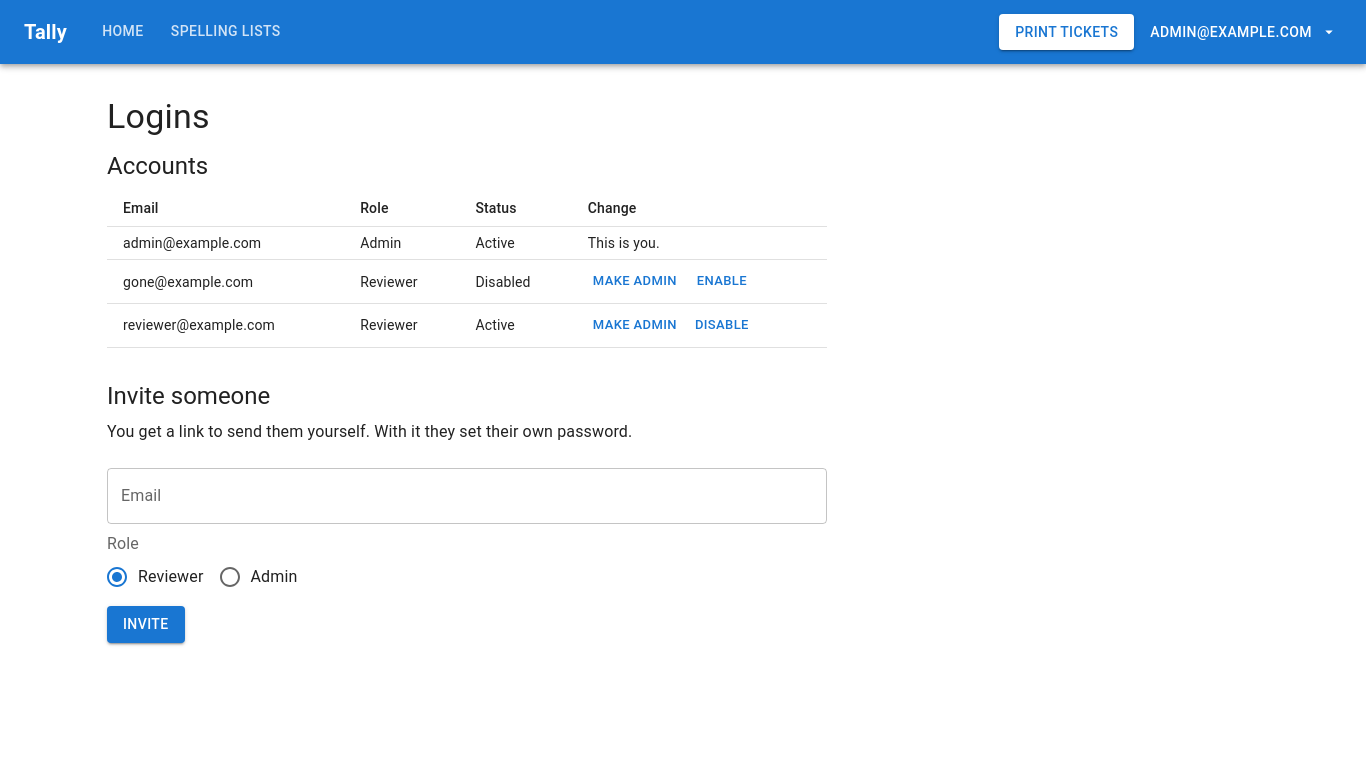
Test: the users list › asks before a role change, and says when it takes effect
Later steps or results of the test are not shown.
Click the button "Make admin" in the row of "reviewer@example.com": (635, 325) left=588, top=310, right=682, bottom=341
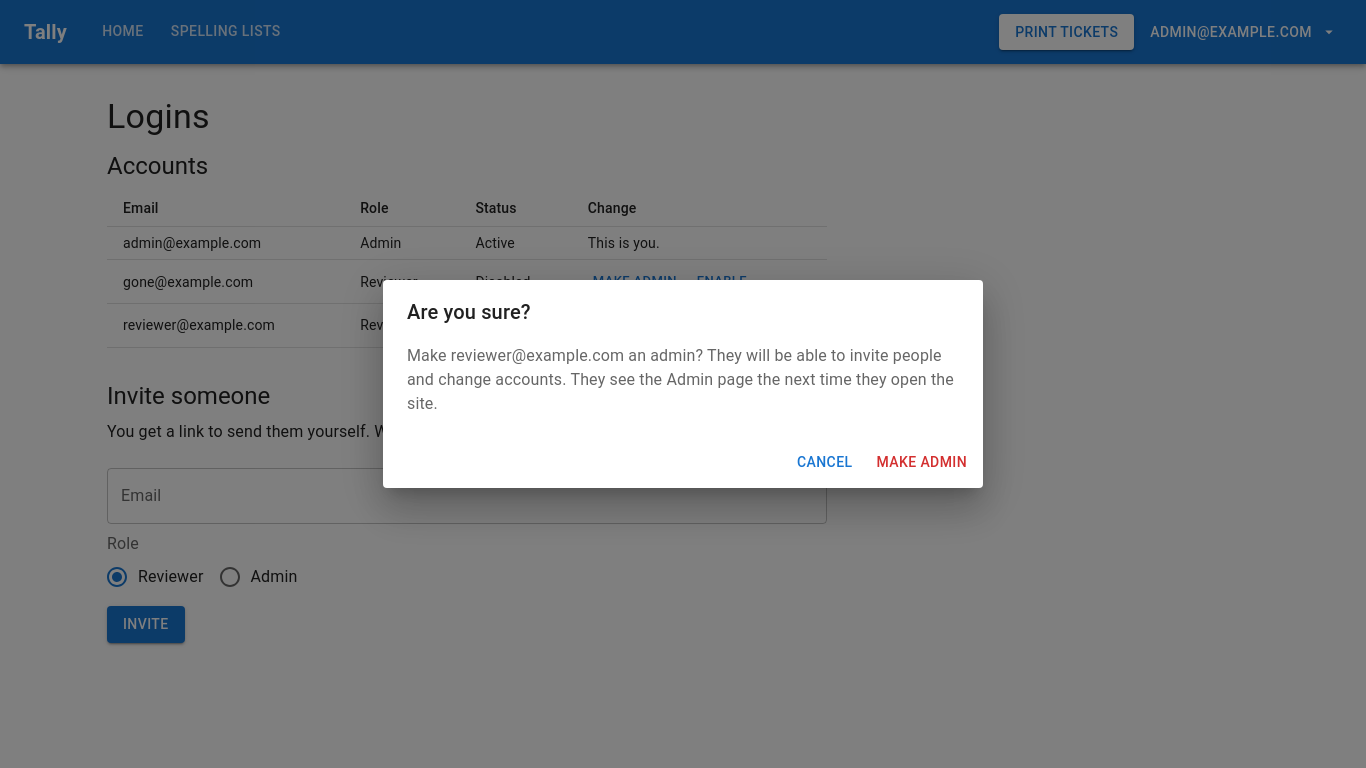
Expected: the text "They see the Admin page the next time they open the site." is shown, left=407, top=346, right=954, bottom=413
